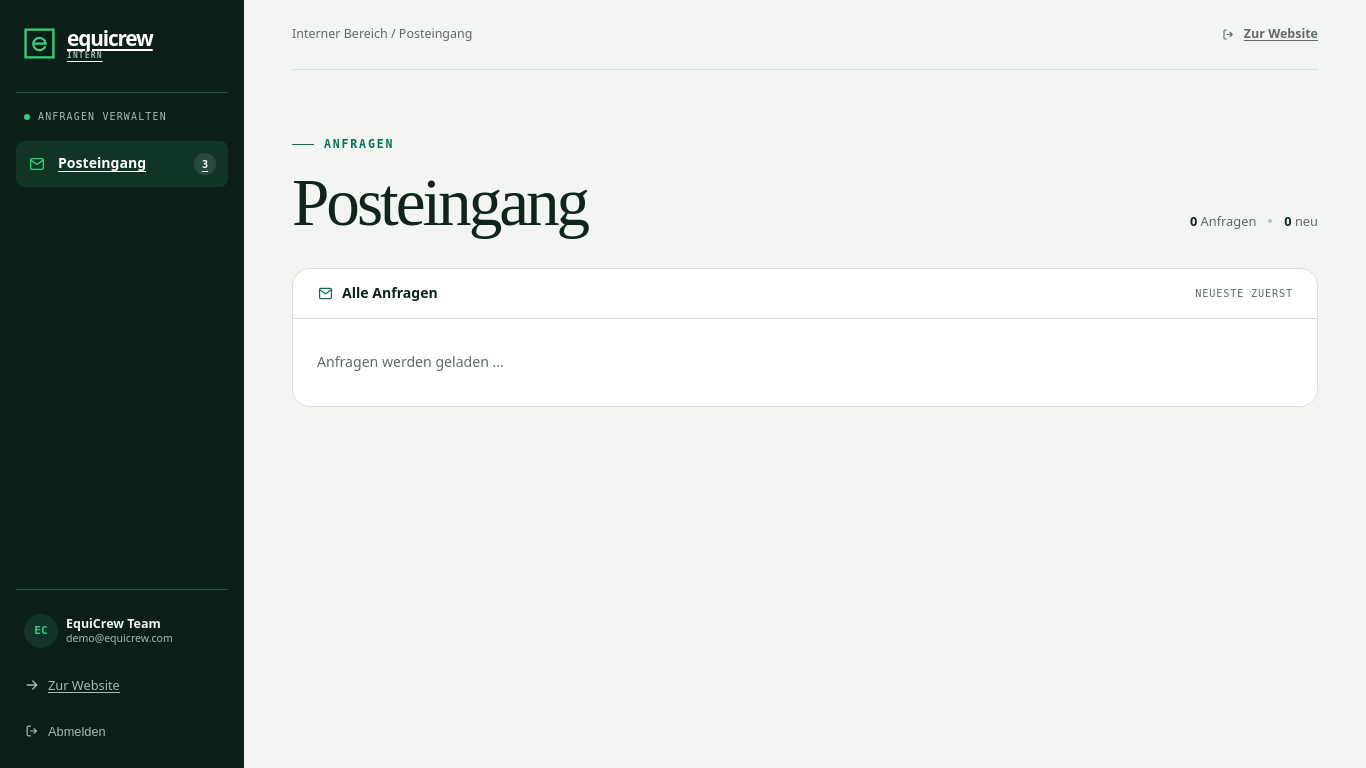
Test: InboxPage › signs out and leads back to the sign-in
Expected: the heading "Posteingang" is shown, [292,170,587,236]
Click the button "Abmelden" at [122, 731], box [16,710,228,752]
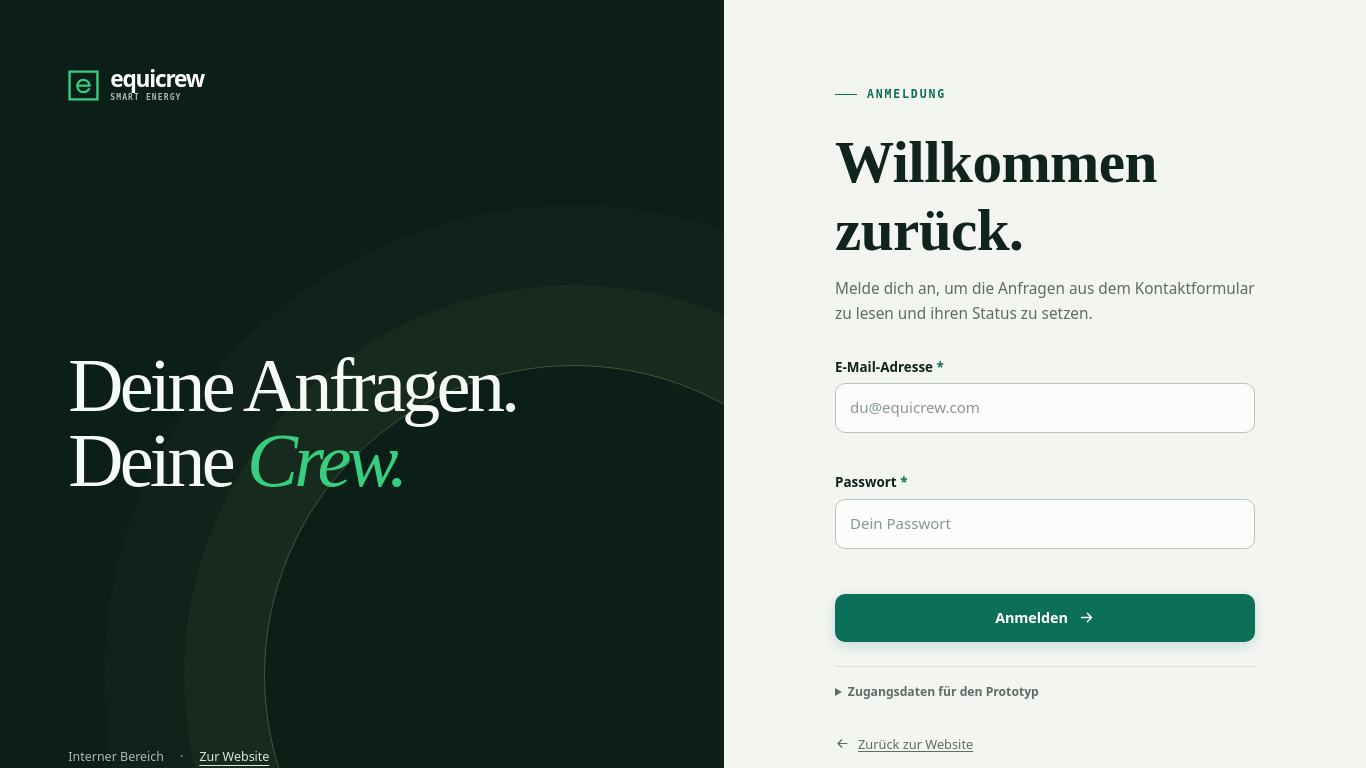
Result: the heading "Willkommen zurück." is shown at [835,129,1157,263]
